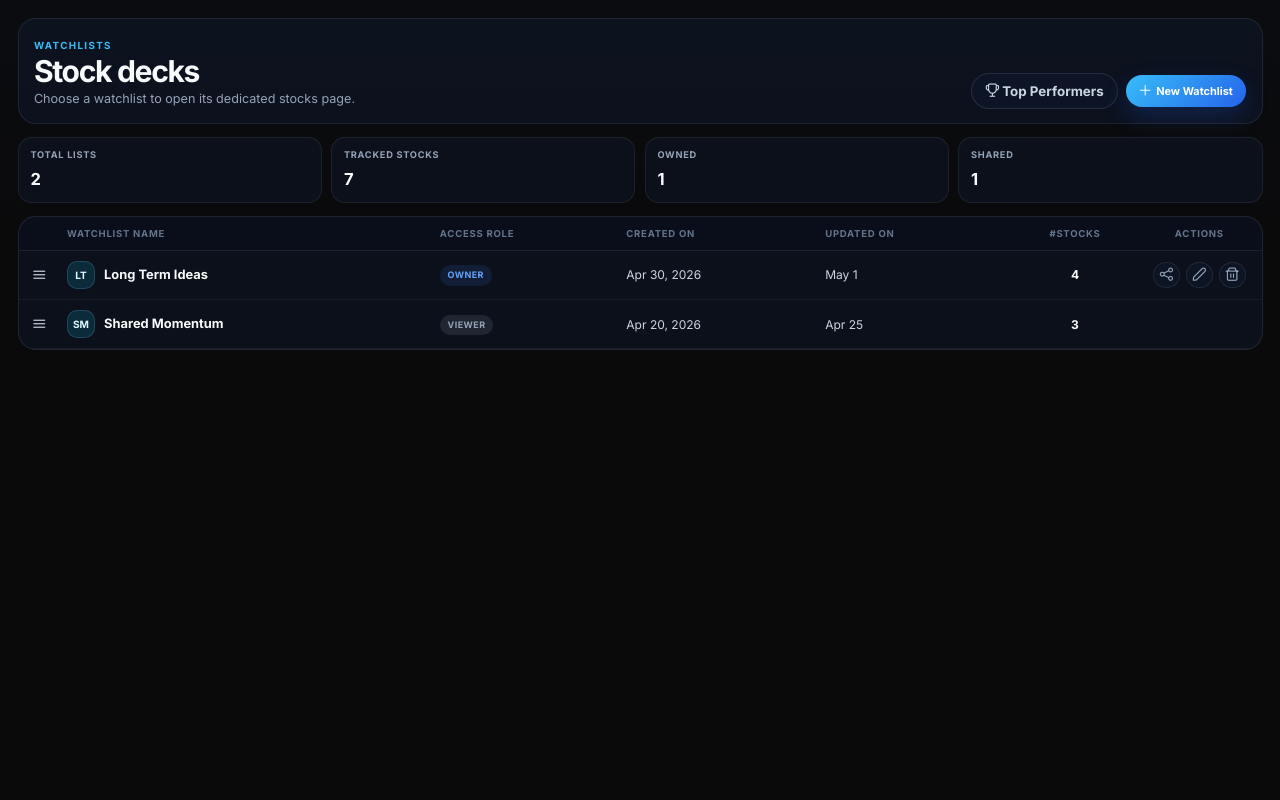
Test: WatchlistsComponent › opens the share dialog from the owner row share icon
Step 1. Click the button with class "share-action" → (1166, 275), box [1153, 262, 1180, 288]
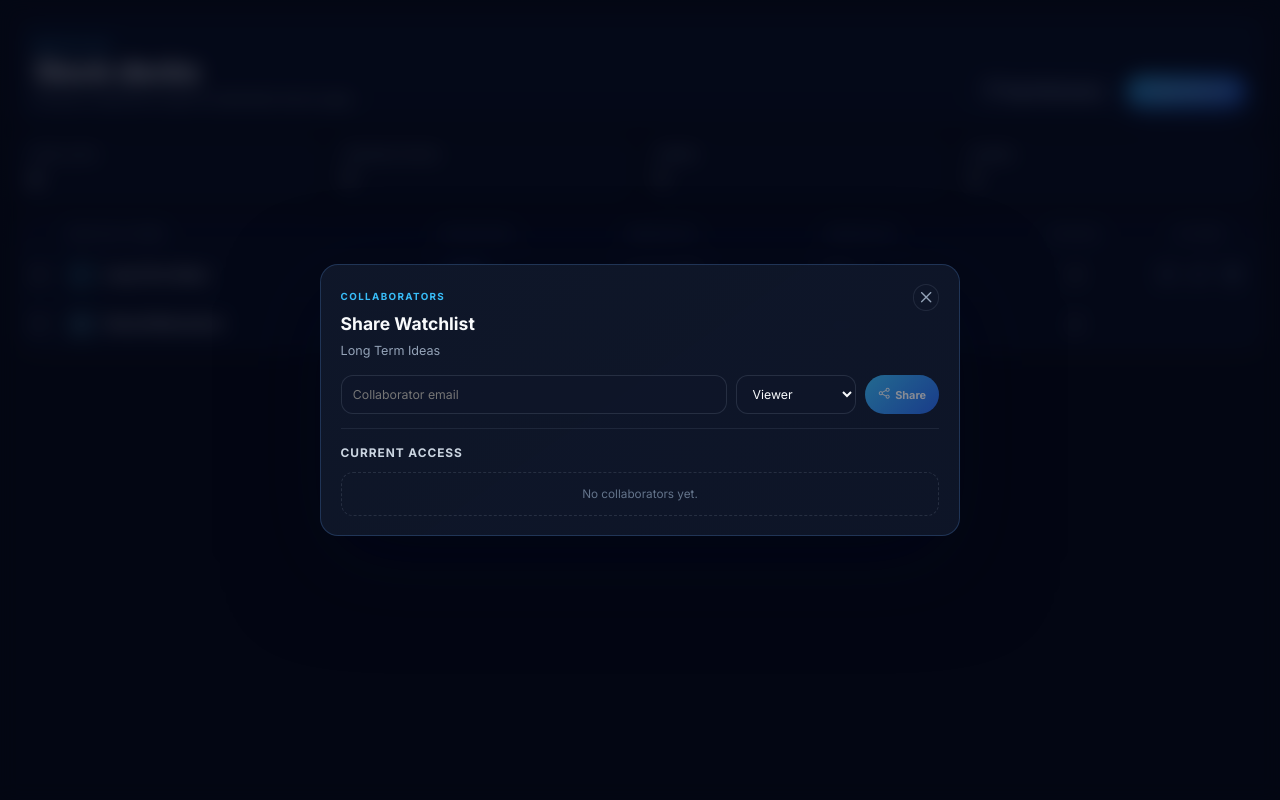
Expected: the element with class "share-dialog" shows "Long Term Ideas", [341, 343, 440, 358]
